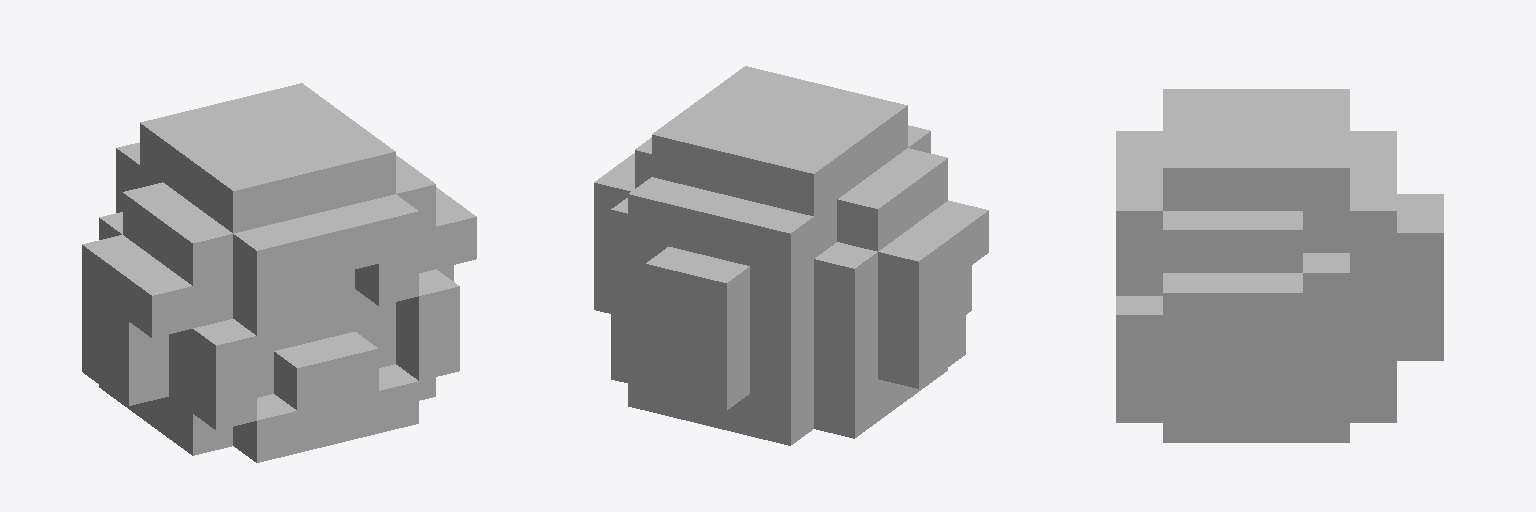
File: Head 15.obj
3 views of the same model, side by side, from view 1: azimuth 30°, elevation 25°; view 2: azimuth 150°, elevation 25°; view 3: azimuth 270°, elevation 25° (orthographic).
Size of the model in its own units: 8 by 6 by 7.